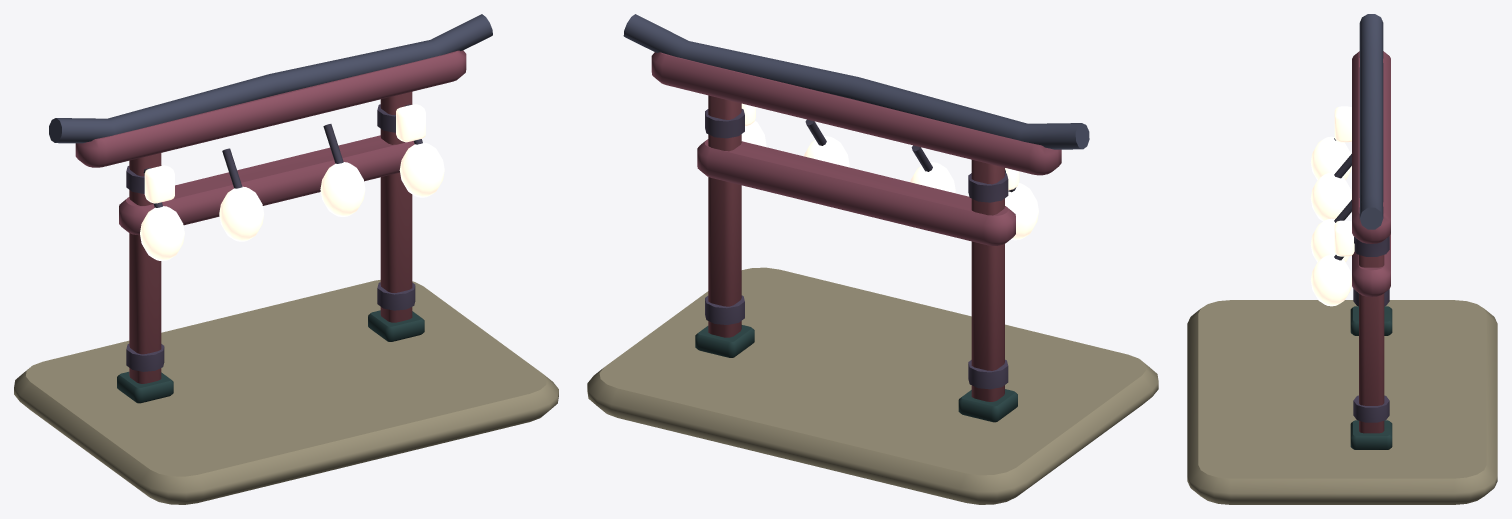
Rendered from event_akari_matsuri.glb.
3 views of the same model, side by side, from view 1: azimuth 30°, elevation 25°; view 2: azimuth 150°, elevation 25°; view 3: azimuth 270°, elevation 25° (orthographic). The views are drawn at different scales.
Visible parts, largest first — view 1: EventAkariMatsuri; view 2: EventAkariMatsuri; view 3: EventAkariMatsuri.
Part boxes in pixels (bbox=[...]): EventAkariMatsuri: bbox=[14, 14, 558, 504]; EventAkariMatsuri: bbox=[587, 14, 1158, 504]; EventAkariMatsuri: bbox=[1187, 14, 1497, 504].
Bounding box in the file's own units: 2.58 × 1.85 × 1.71.
